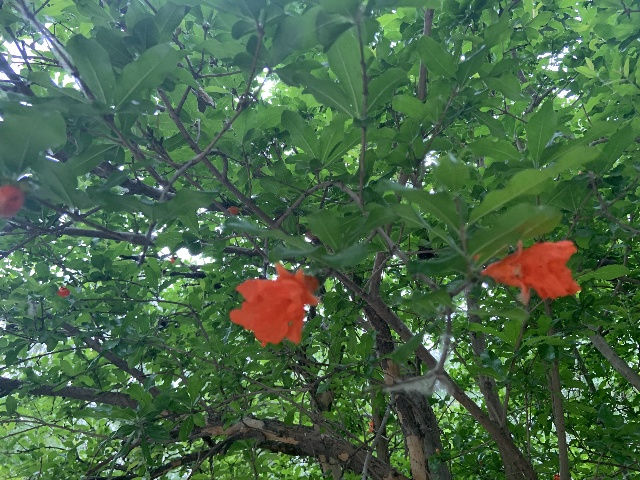bud: (227, 206, 239, 214)
flower: (229, 262, 320, 346), (480, 238, 582, 305), (56, 286, 70, 297), (553, 474, 560, 480)
